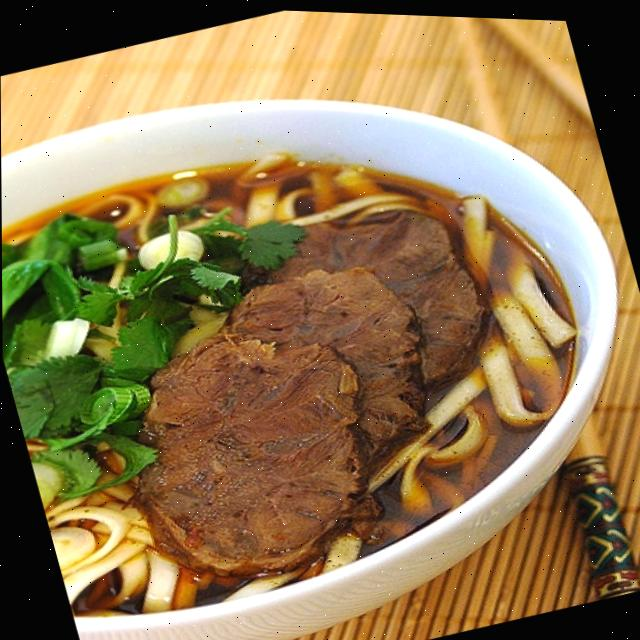面条主食: (0, 21, 640, 640)
